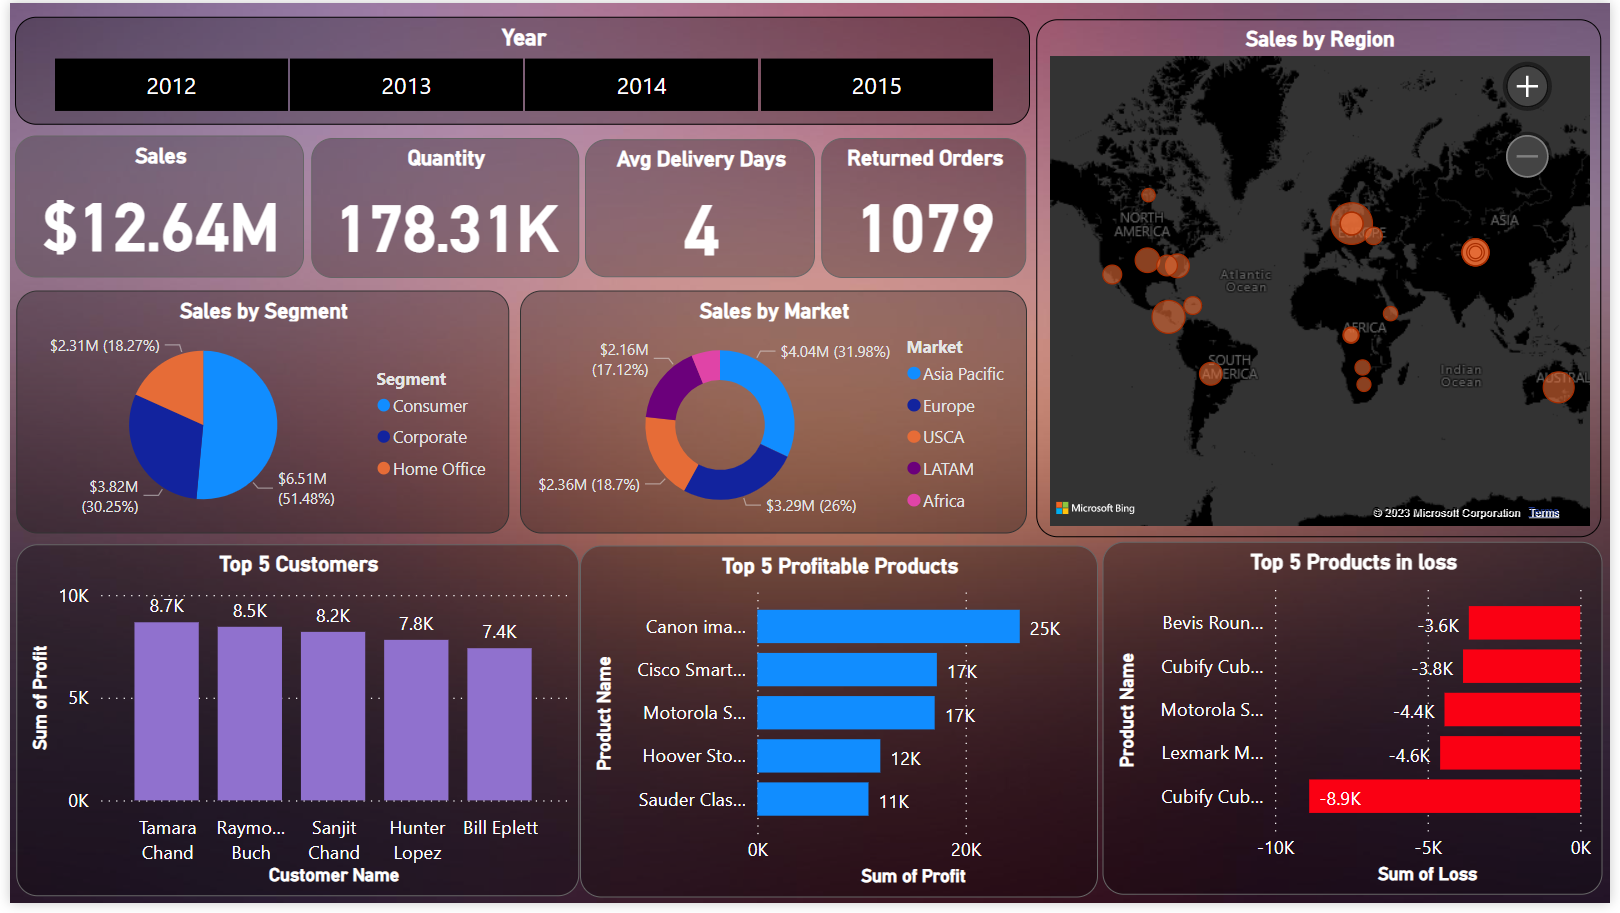

What the dashboard file says about the page in this screenshot:
{"tool":"powerbi","page":{"name":"Page 1","canvas":[1280,720],"ordinal":0},"visuals":[{"type":"card","title":"Sales","fields":{"Values":["Orders.Sales"]},"box":[3.8,106.2,231.2,113.8],"z":0},{"type":"card","title":"Quantity","fields":{"Values":["Orders.Quantity"]},"box":[241.2,107.5,213.8,112.5],"z":1000},{"type":"card","title":"Avg Delivery Days","fields":{"Values":["Orders.Delivery Days"]},"box":[460,108.8,183.8,111.2],"z":2000},{"type":"slicer","title":"Year","fields":{"Values":["Orders.Year"]},"box":[3.8,11.2,812.5,86.2],"z":3000},{"type":"card","title":"Returned Orders","fields":{"Values":["Returns.Return Orders"]},"box":[648.8,107.5,163.8,112.5],"z":4000},{"type":"map","title":" Sales by Region","fields":{"Size":["Orders.Sales"],"Category":["Orders.Region"]},"box":[820.9,12.8,452.3,415.1],"z":5000},{"type":"barChart","title":"Top 5 Profitable Products","fields":{"Category":["Orders.Product Name"],"Y":["Orders.Profit"]},"box":[456.2,433.8,413.8,282.5],"z":6000},{"type":"barChart","title":"Top 5 Products in loss ","fields":{"Category":["Orders.Product Name"],"Y":["Orders.Profit"]},"box":[873.8,431.2,400,282.5],"z":7000},{"type":"pieChart","title":" Sales by Segment","fields":{"Category":["Orders.Segment"],"Y":["Orders.Sales"]},"box":[5,230,393.8,195],"z":8000},{"type":"donutChart","title":" Sales by Market","fields":{"Y":["Orders.Sales"],"Category":["Orders.Market"]},"box":[407.6,230.4,405.2,194.2],"z":9000},{"type":"columnChart","title":"Top 5 Customers","fields":{"Category":["Orders.Customer Name"],"Y":["Orders.Profit"]},"box":[5,432.5,450,282.5],"z":10000}]}

Visuals, with their boxes in screenshot pixels (x1, y1, x2, y2), scaled from the page's 1280x720 canvas onto the 1620x913 screenshot:
"Sales" card: pyautogui.locateOnScreen(5, 135, 297, 279)
"Quantity" card: pyautogui.locateOnScreen(305, 136, 576, 279)
"Avg Delivery Days" card: pyautogui.locateOnScreen(582, 138, 815, 279)
"Year" slicer: pyautogui.locateOnScreen(5, 14, 1033, 124)
"Returned Orders" card: pyautogui.locateOnScreen(821, 136, 1028, 279)
" Sales by Region" map: pyautogui.locateOnScreen(1039, 16, 1611, 543)
"Top 5 Profitable Products" barChart: pyautogui.locateOnScreen(577, 550, 1101, 908)
"Top 5 Products in loss " barChart: pyautogui.locateOnScreen(1106, 547, 1612, 905)
" Sales by Segment" pieChart: pyautogui.locateOnScreen(6, 292, 505, 539)
" Sales by Market" donutChart: pyautogui.locateOnScreen(516, 292, 1029, 538)
"Top 5 Customers" columnChart: pyautogui.locateOnScreen(6, 548, 576, 907)
